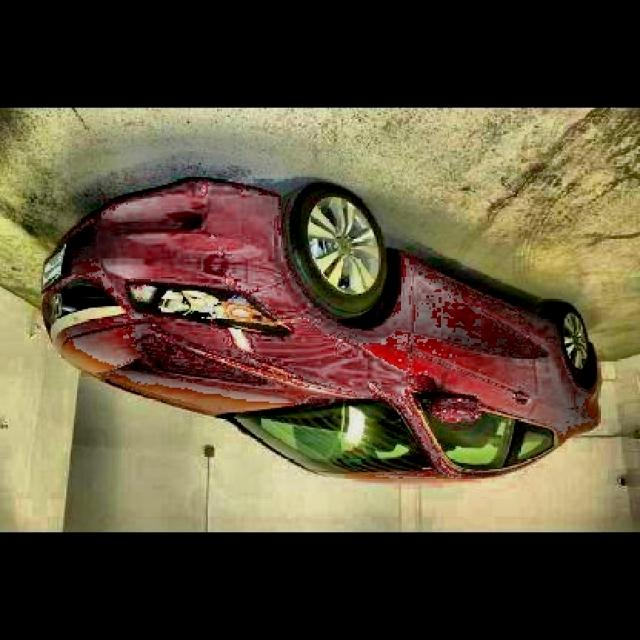maroon: (40, 166, 634, 472)
